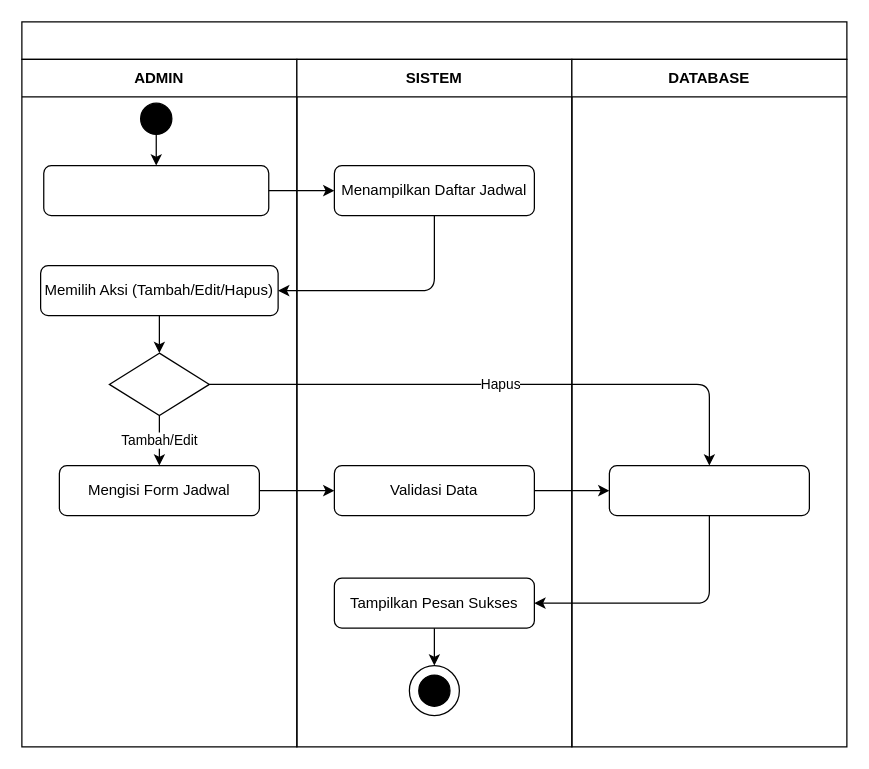
Image size: 869x769. Some labels were removed from this diagram. The box of each missing label's shape, as (x1, y1, x2, y2) in pixels:
ADMIN KELOLA JADWAL SIDANG: (21, 21, 847, 59)
Aksi?: (108, 352, 209, 416)
Mengakses Menu Jadwal Sidang: (42, 164, 269, 216)
Simpan/Update/Hapus Data Jadwal: (608, 464, 809, 516)
